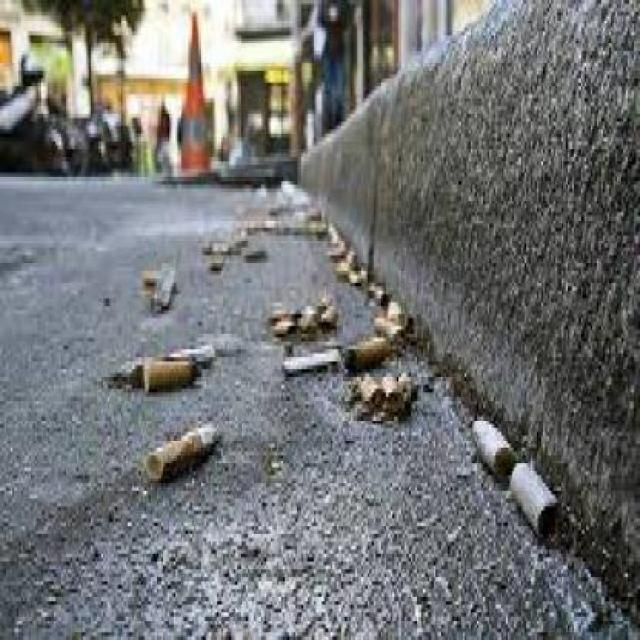cigarette: (142, 420, 245, 498), (510, 472, 570, 553), (122, 358, 210, 400), (474, 396, 512, 472), (272, 353, 350, 389)
